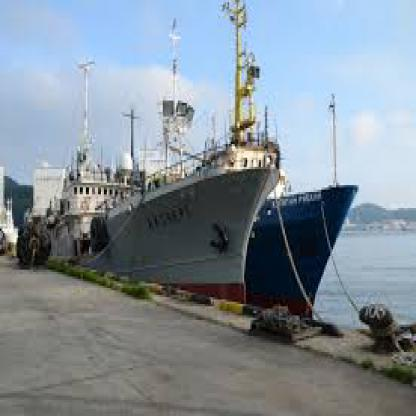fish-b: (35, 0, 279, 327)
